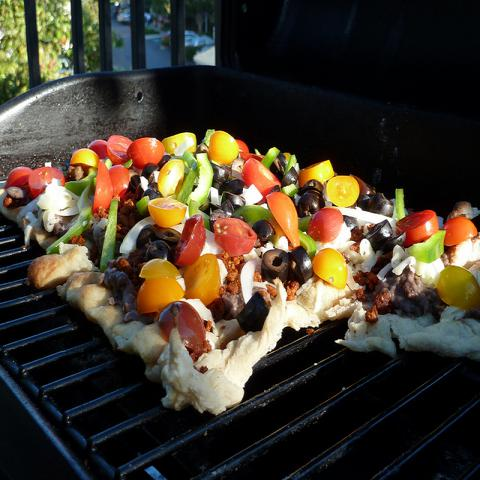car: (111, 0, 214, 72)
